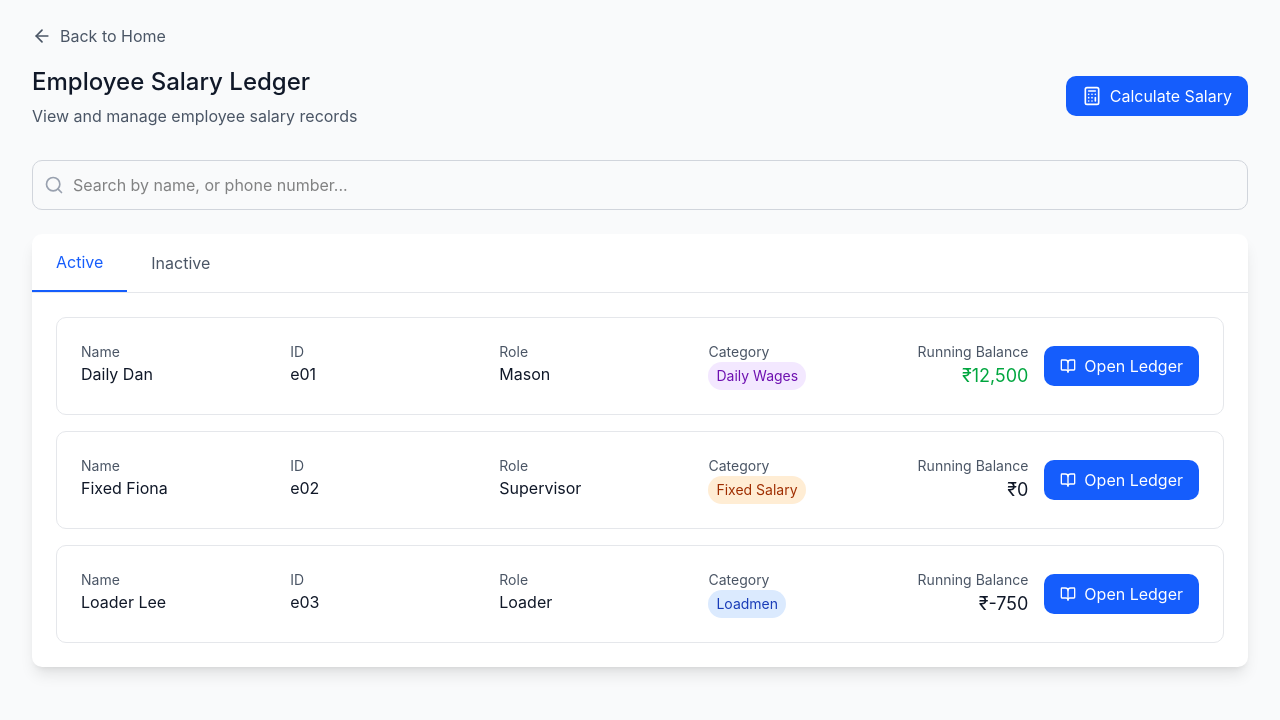
SalaryLedgerScreen › the list › shows inactive employees under the Inactive tab
The image size is (1280, 720).
Expected: the text "Daily Dan" is shown, [81,364,153,384]
Click the button "Inactive": (181,263) [127,234,234,292]
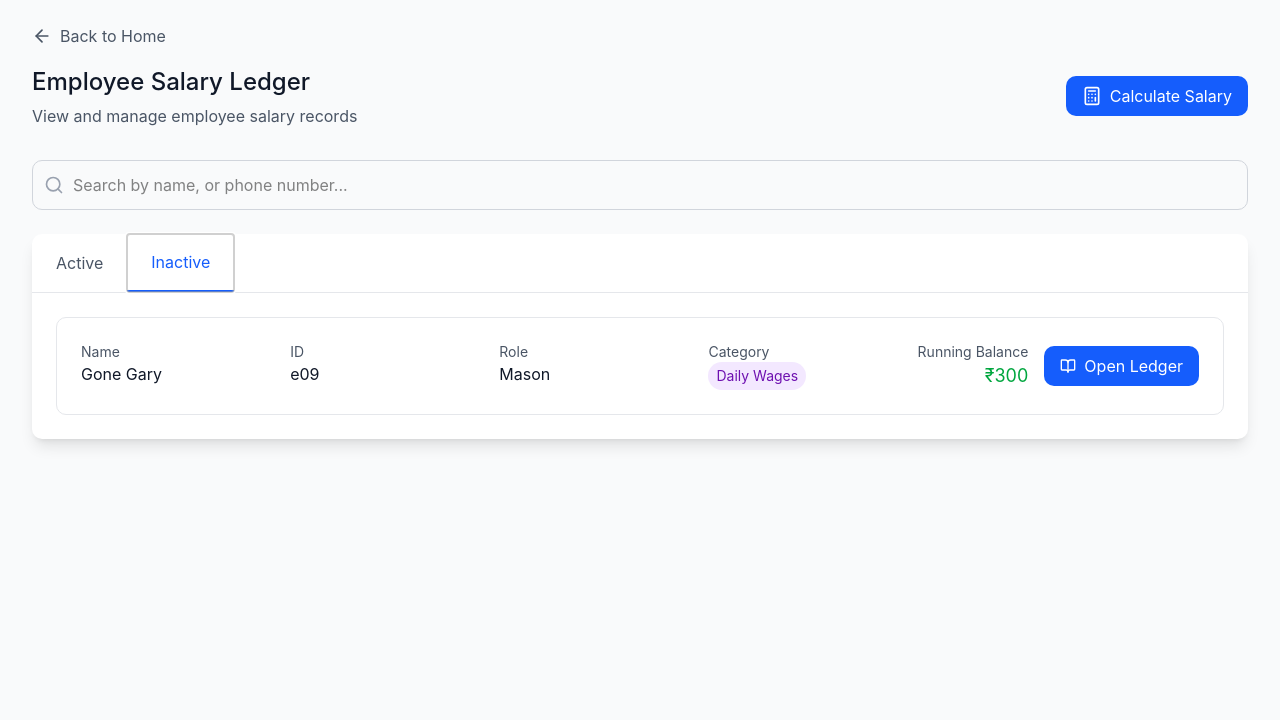
Now the text "Gone Gary" is shown, box [81,364,162,384]
Now the text "Daily Dan" is gone
